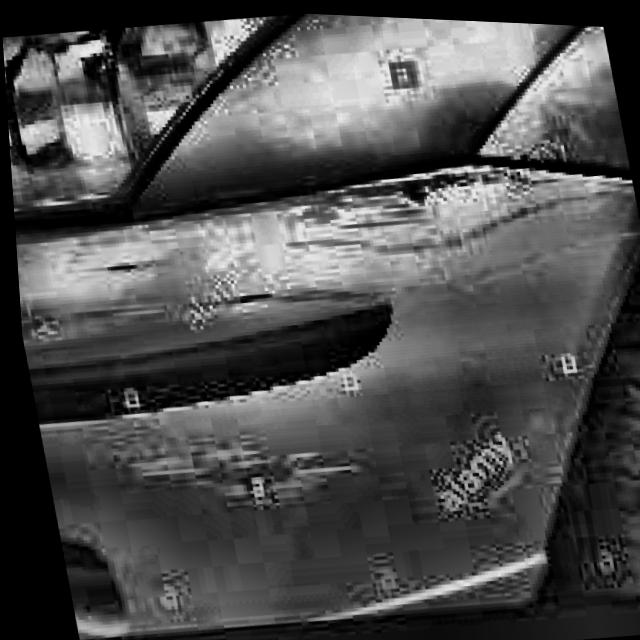bumper_scratch: (27, 201, 389, 350), (260, 150, 566, 279), (113, 421, 373, 538)
